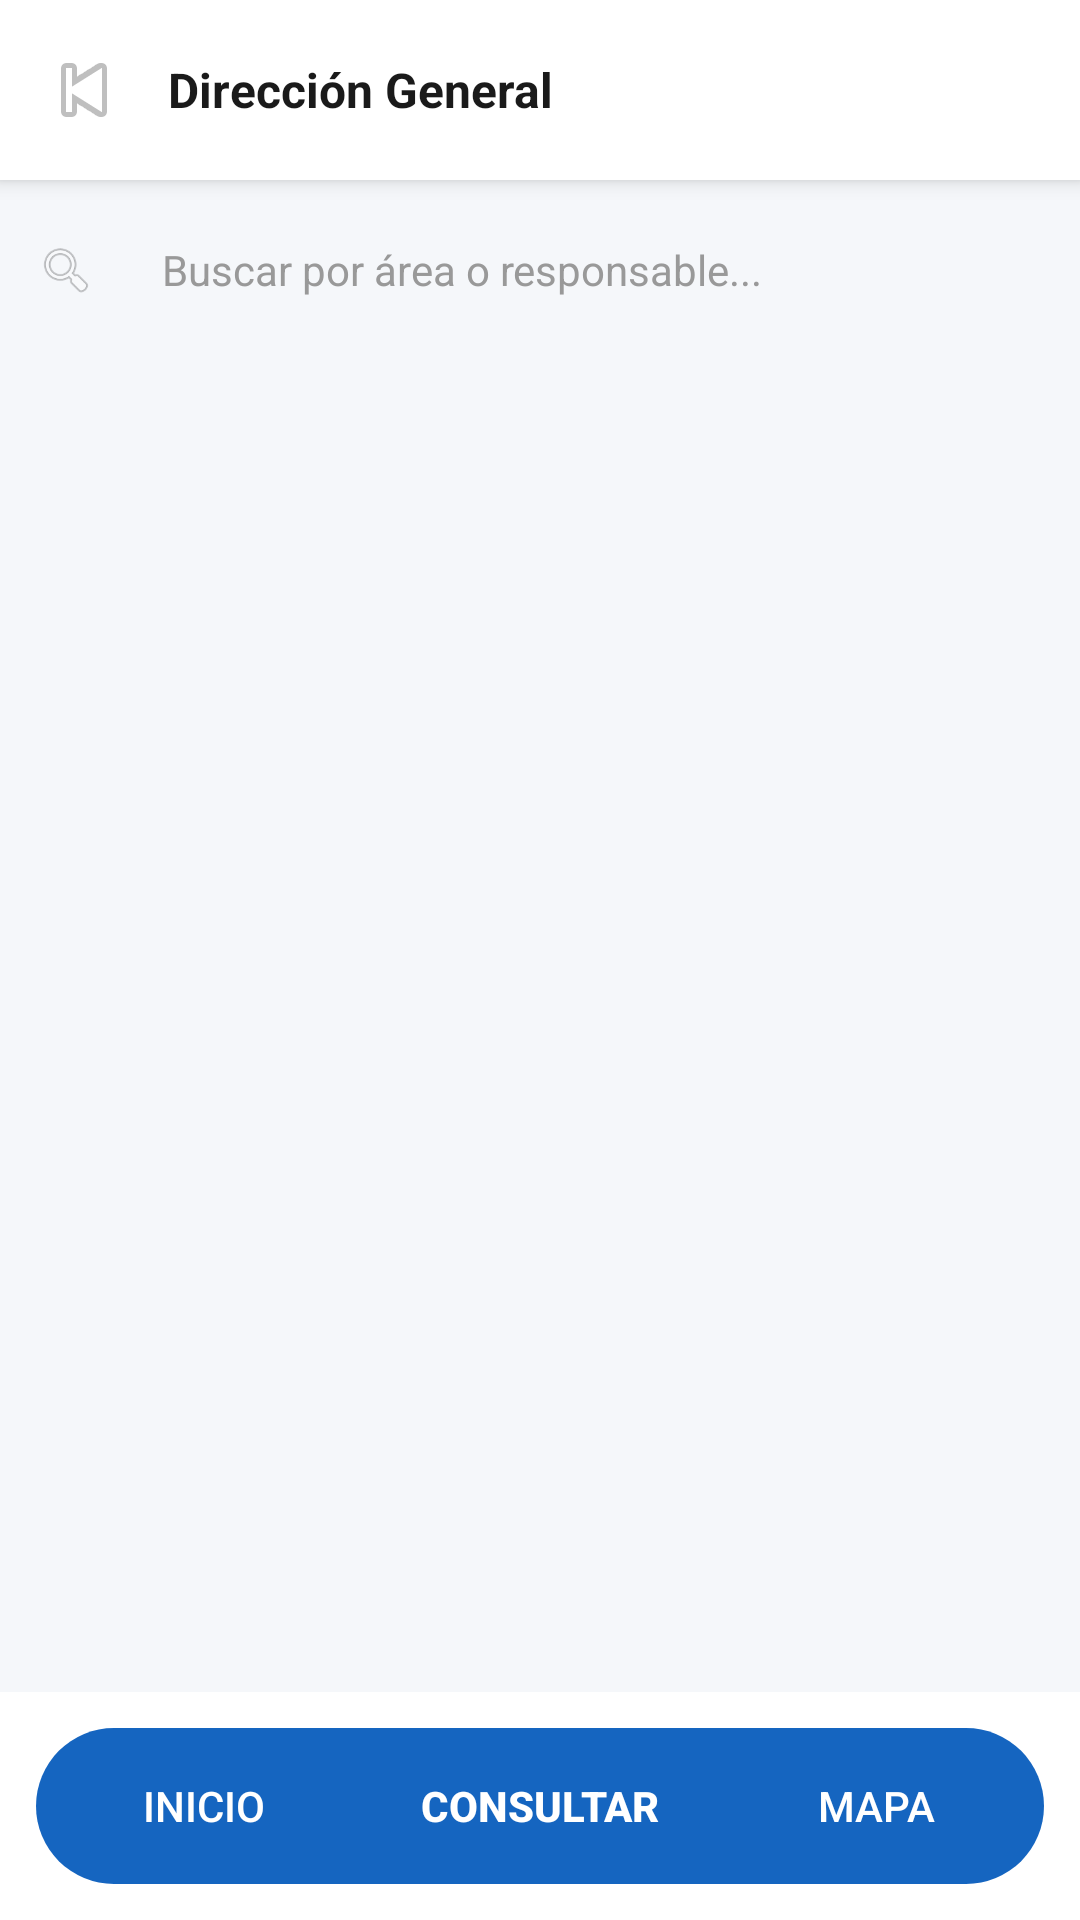

Screen size 1080 x 1920. Icon name, then its center in pixels as point (x, y):
previous: point (84, 90)
search: point (66, 270)
